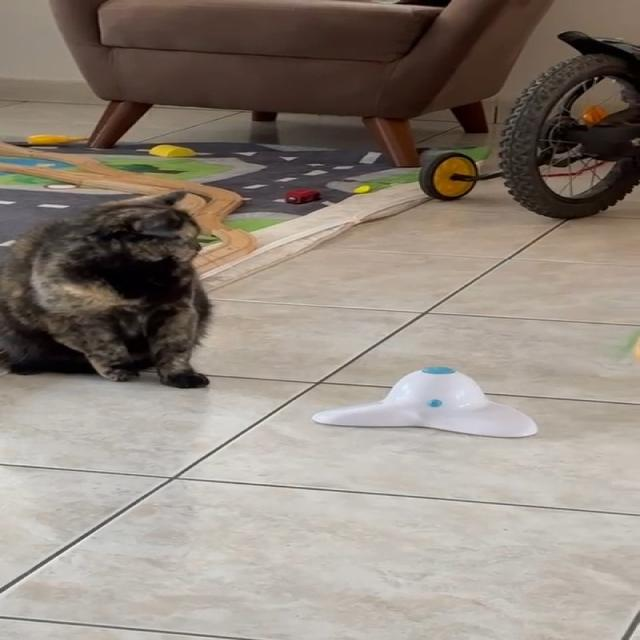authorized: (0, 189, 213, 388)
